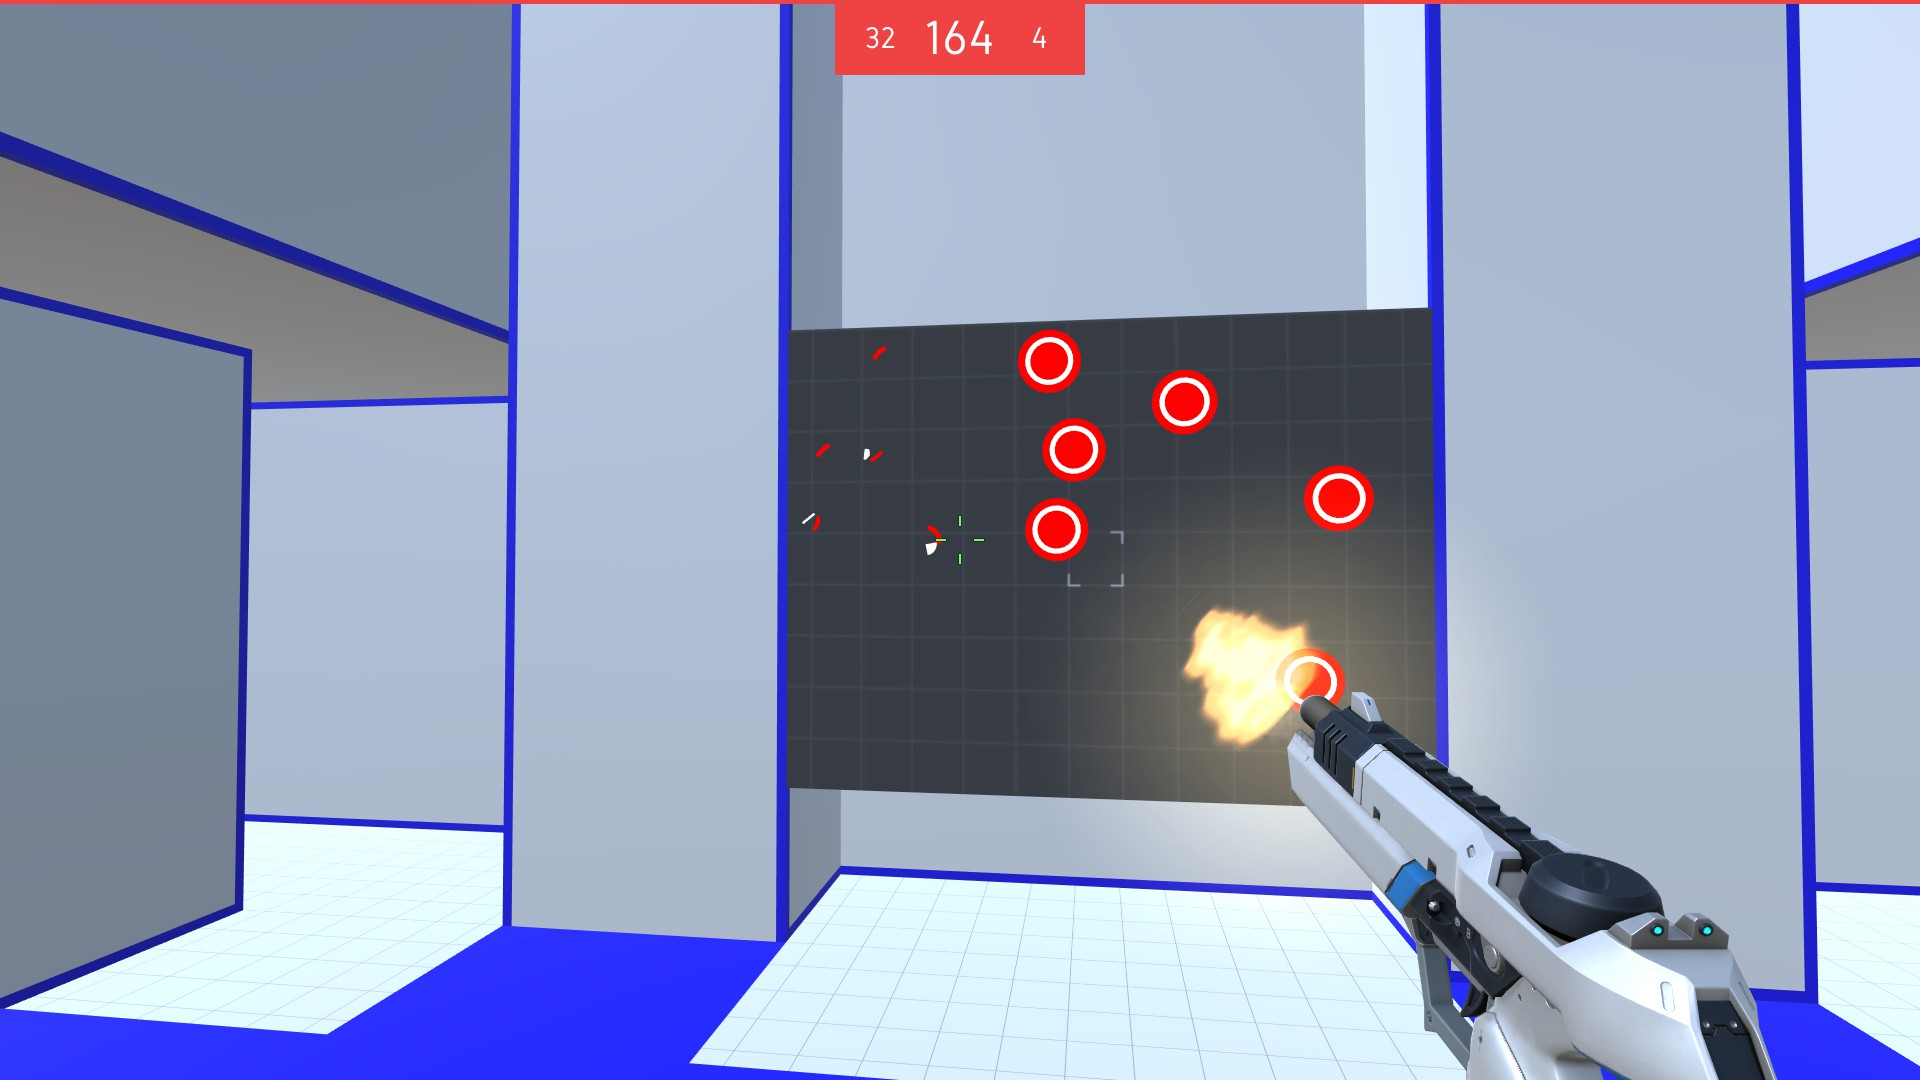target: (1302, 462, 1378, 543), (1014, 326, 1089, 398), (1149, 367, 1222, 436), (1021, 495, 1095, 564), (1276, 647, 1346, 716), (1039, 418, 1110, 481)
